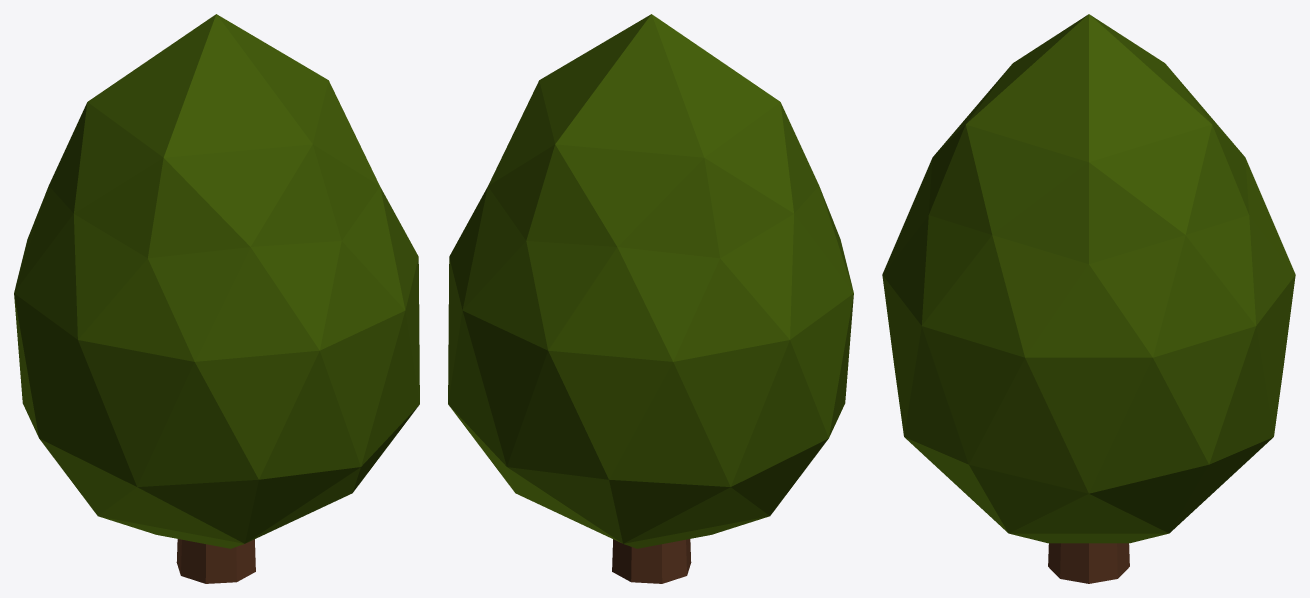
Rendered from bush-5.fbx.
3 renders of one model, left to right at view 1: azimuth 30°, elevation 25°; view 2: azimuth 150°, elevation 25°; view 3: azimuth 270°, elevation 25°, orthographic.
Visible parts, largest first — view 1: bush-5; view 2: bush-5; view 3: bush-5.
Boxes of the visible parts, x1=… form: bush-5: x1=14, y1=14, x2=419, y2=583; bush-5: x1=448, y1=14, x2=853, y2=583; bush-5: x1=882, y1=14, x2=1295, y2=583.
Size of the model in its own units: 44.67 by 67.93 by 46.04.
